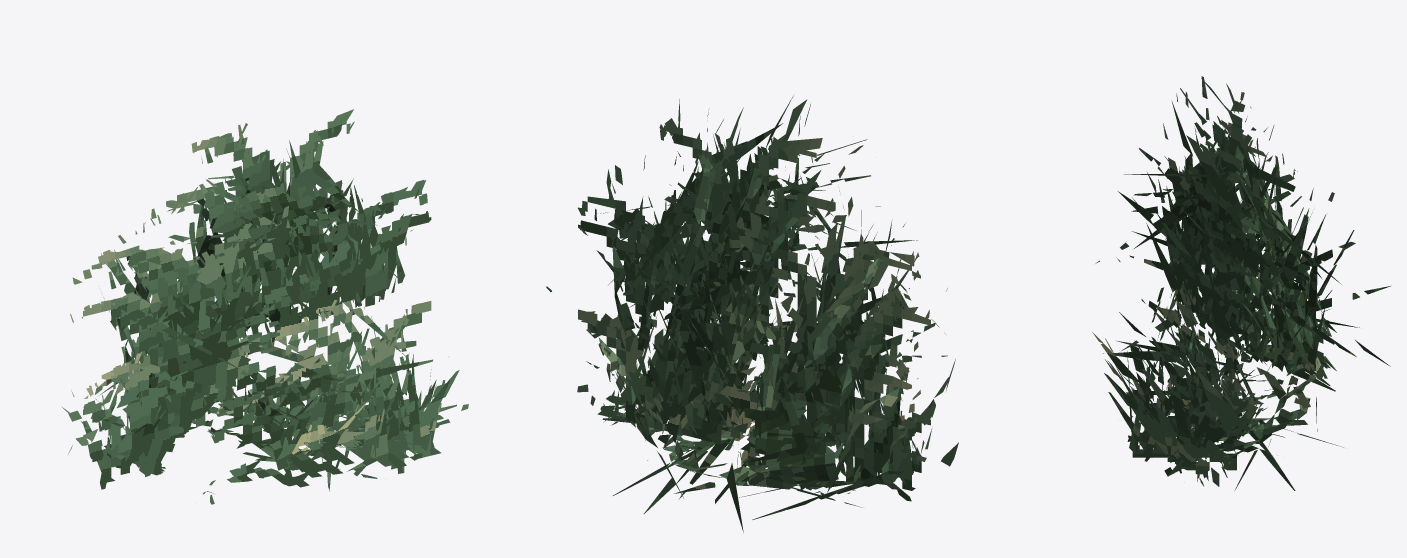
Rendered from grass_1290_cut.glb.
3 views of the same model, side by side, from view 1: azimuth 30°, elevation 25°; view 2: azimuth 150°, elevation 25°; view 3: azimuth 270°, elevation 25° (orthographic). The views are drawn at different scales.
Parts seen in each view (by area): view 1: grass_1290_cut_lod0; view 2: grass_1290_cut_lod0; view 3: grass_1290_cut_lod0.
Part boxes in pixels (<box>): grass_1290_cut_lod0: <box>61,109,468,504</box>; grass_1290_cut_lod0: <box>546,95,958,532</box>; grass_1290_cut_lod0: <box>1092,76,1391,490</box>.
Size of the model in its own units: 0.9849 by 1.04 by 0.773.
1 material, 1 textured.
